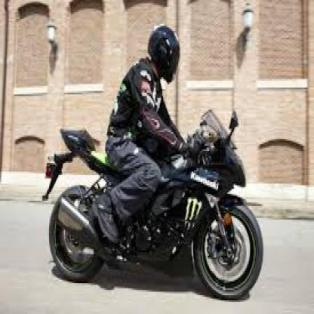Motocicleta: (45, 117, 263, 298)
